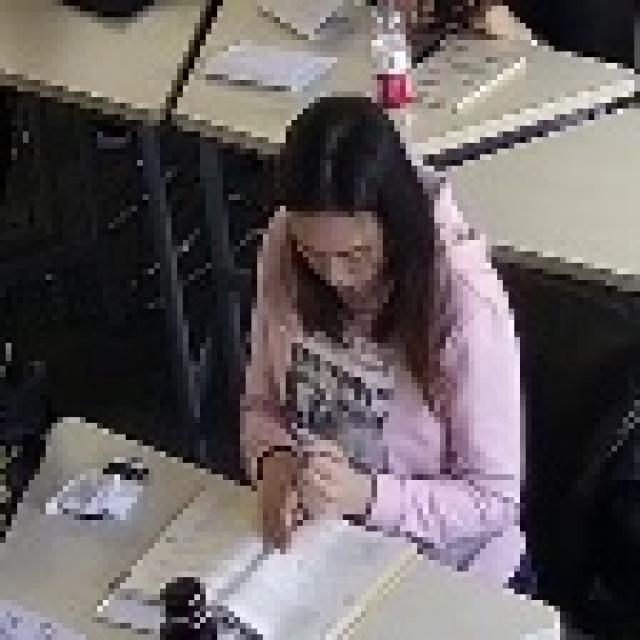write: (216, 85, 533, 604)
